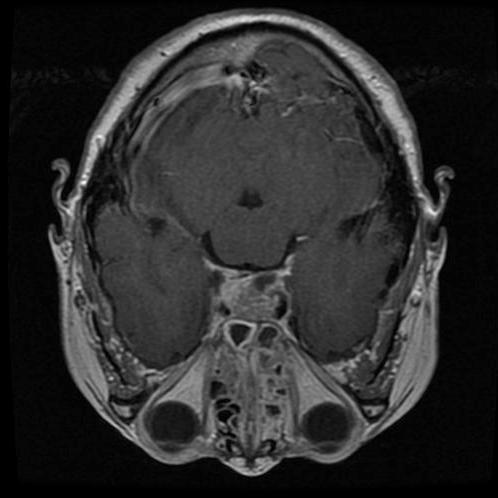Tumour-Pituitary: (200, 261, 299, 343)
